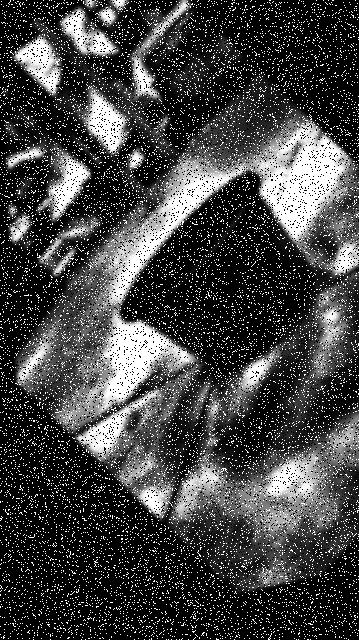pot: (120, 172, 313, 370)
